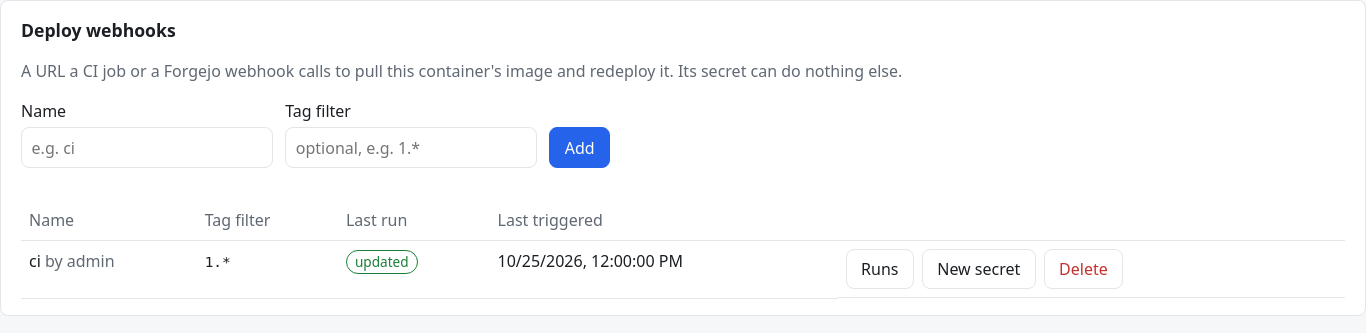
WebhooksCard › deletes after a confirm
Click the button "Delete" at point(1083, 269), box [1044, 249, 1123, 289]
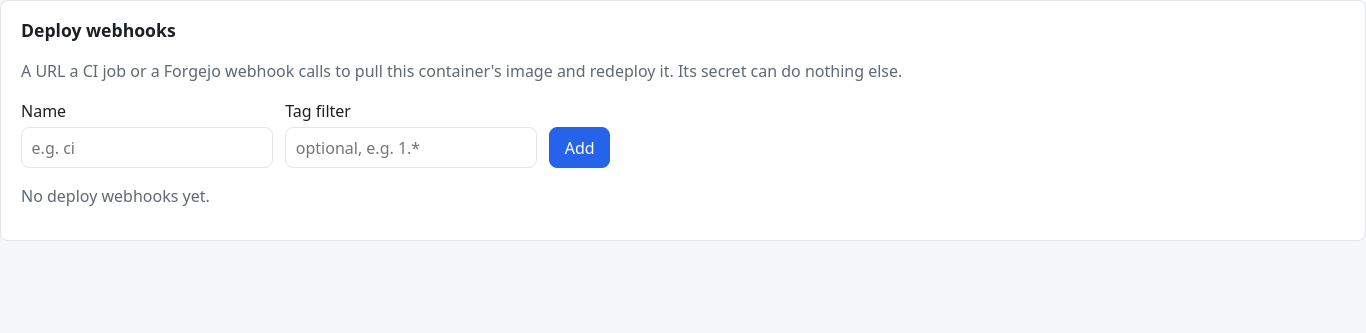
Expected: the text "No deploy webhooks yet." is shown, [21, 185, 210, 207]
